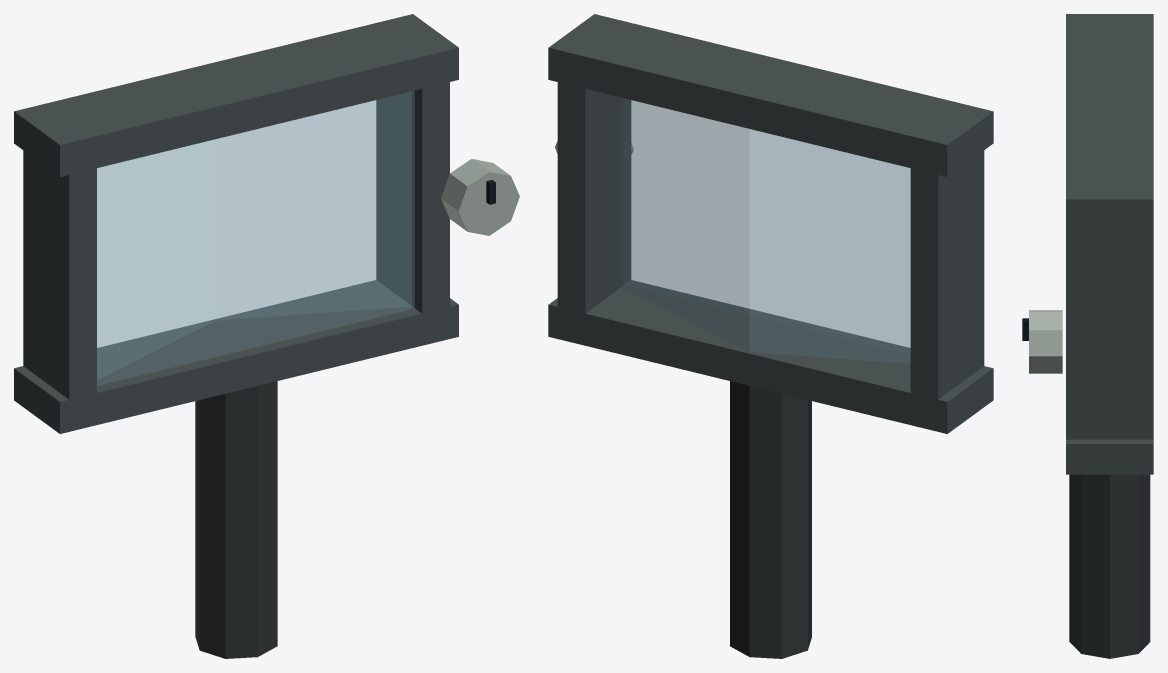
Rendered from blender_spectral_prism_2.glb.
The picture shows the model from 3 angles, left to right: view 1: azimuth 30°, elevation 25°; view 2: azimuth 150°, elevation 25°; view 3: azimuth 270°, elevation 25°; orthographic projection. The views are drawn at different scales.
Parts seen in each view (by area): view 1: blender_spectral_prism_2; view 2: blender_spectral_prism_2; view 3: blender_spectral_prism_2.
Part boxes in pixels (x1,y1,x2,y2): blender_spectral_prism_2: (14,14,519,658); blender_spectral_prism_2: (548,14,993,658); blender_spectral_prism_2: (1022,14,1153,658).
Size of the model in its own units: 0.1435 by 0.175 by 0.039.
Materials: 2 (2 with a texture image).
